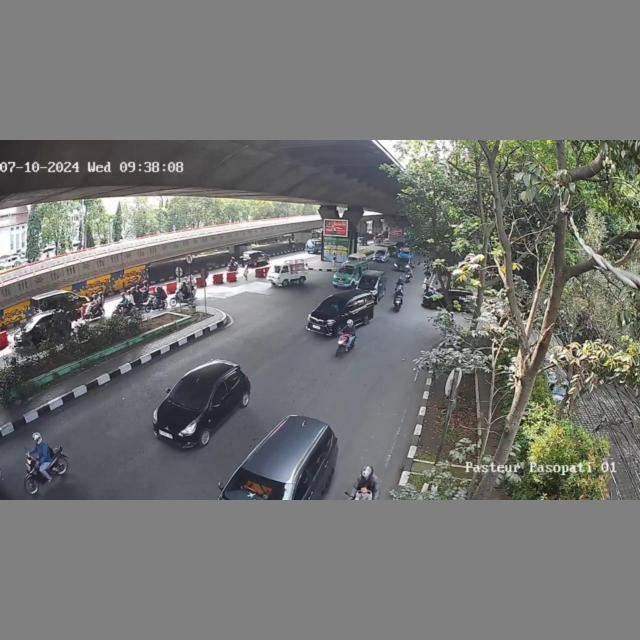windshield: (224, 471, 294, 500), (166, 378, 212, 406), (315, 296, 347, 316), (361, 275, 382, 289), (338, 266, 354, 274)
